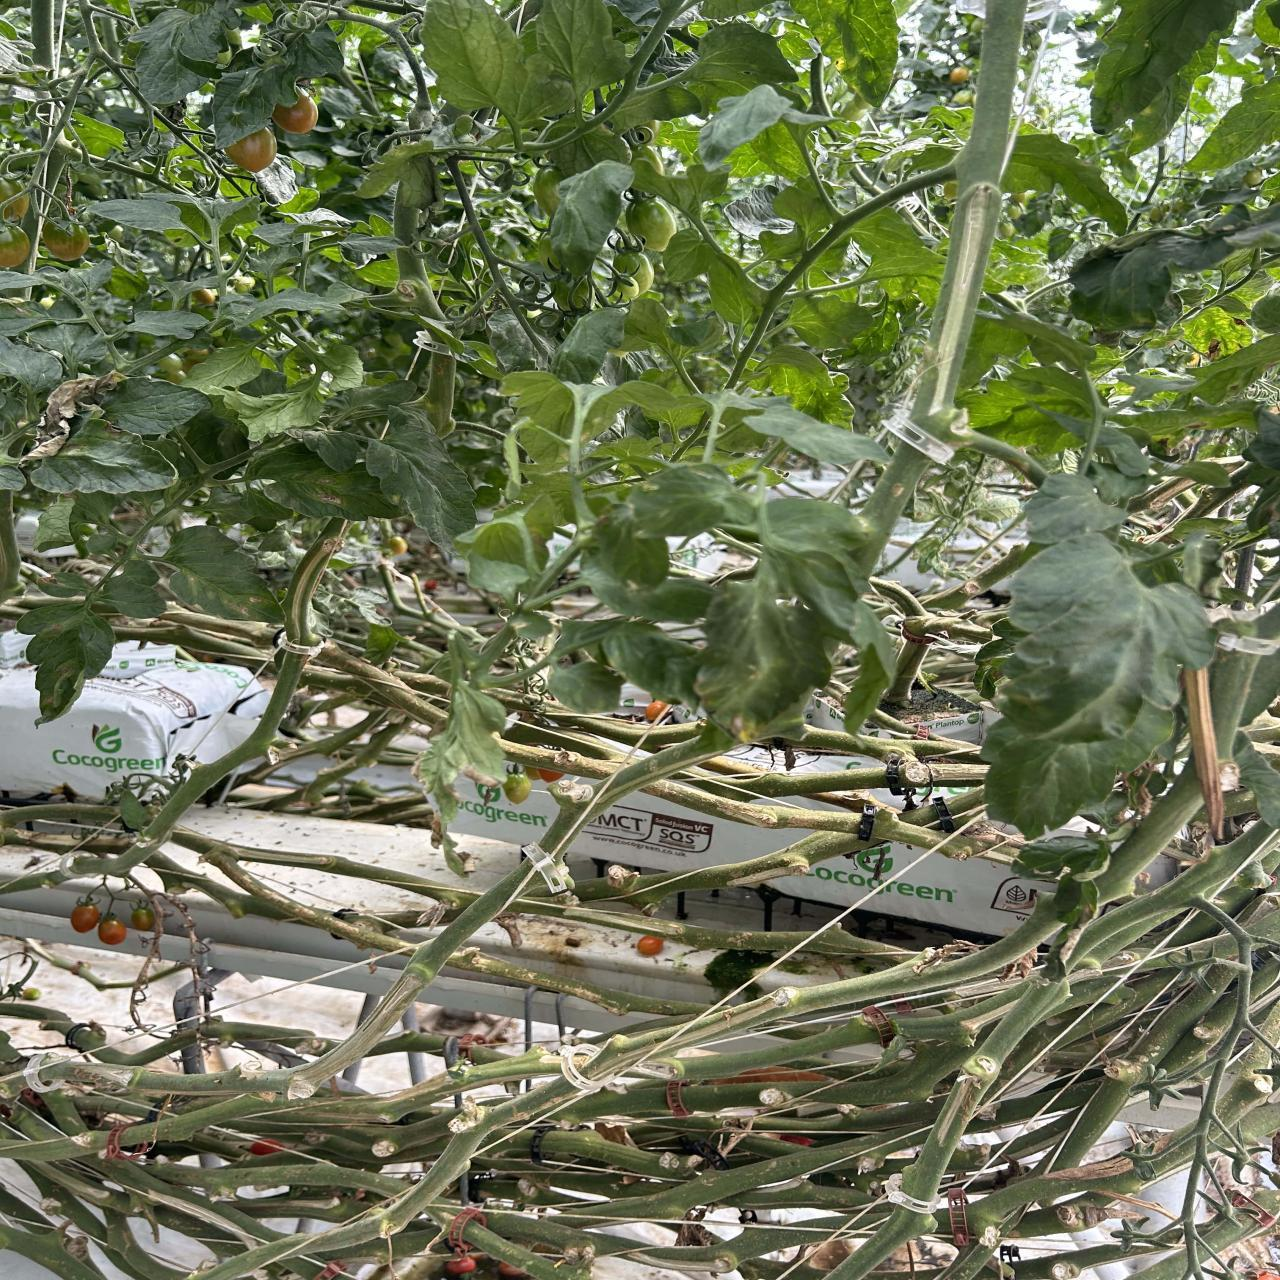Hoja: (985, 530, 1213, 837), (1091, 0, 1252, 154), (422, 0, 573, 124), (365, 407, 476, 546), (156, 526, 282, 622), (522, 0, 628, 101), (101, 377, 209, 436), (216, 288, 342, 331), (178, 347, 260, 394), (90, 197, 182, 232), (101, 577, 166, 619), (127, 309, 210, 340)
Hoja rugoso: (16, 594, 115, 722), (30, 421, 176, 495)
Pedunculo: (341, 724, 737, 1057), (860, 0, 1023, 576), (727, 166, 953, 388), (138, 651, 305, 843), (618, 830, 863, 907), (16, 68, 87, 273), (642, 774, 860, 836), (491, 689, 706, 749), (53, 130, 203, 199), (282, 519, 348, 642), (775, 726, 979, 762), (394, 179, 445, 321), (672, 767, 888, 799), (872, 815, 1002, 859), (499, 740, 633, 781), (960, 430, 1048, 488), (425, 352, 456, 436), (669, 413, 708, 462), (931, 764, 987, 789), (578, 879, 612, 900), (32, 0, 46, 28)
Tomate: (225, 128, 278, 173), (272, 90, 316, 134), (502, 770, 530, 804)
Tomate Rugoso: (626, 198, 676, 252), (550, 272, 592, 314), (614, 252, 655, 295), (43, 224, 89, 261), (531, 169, 561, 216), (0, 178, 29, 222), (0, 230, 30, 268), (536, 236, 561, 272), (615, 280, 640, 302)
